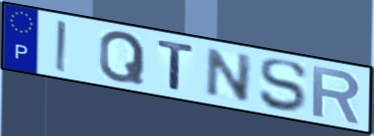I: (53, 18, 70, 75)
N: (203, 46, 256, 105)
Q: (97, 29, 147, 86)
R: (310, 63, 363, 126)
S: (258, 58, 310, 114)
T: (156, 38, 197, 93)
